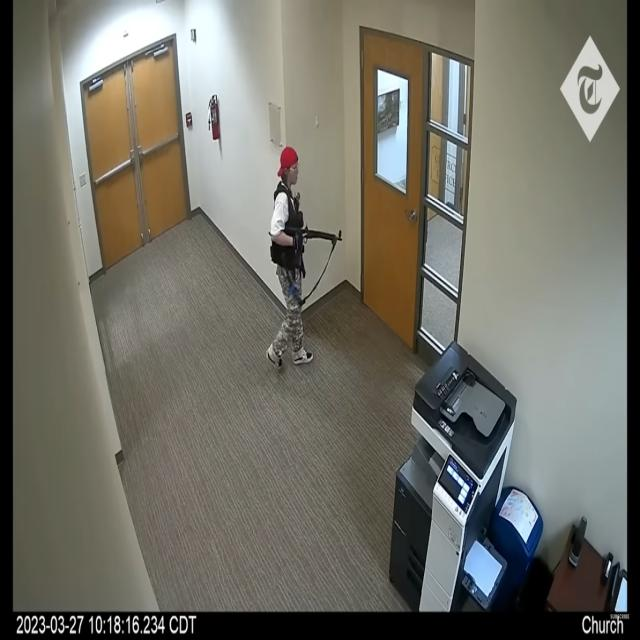FRifle: (282, 216, 346, 257)
